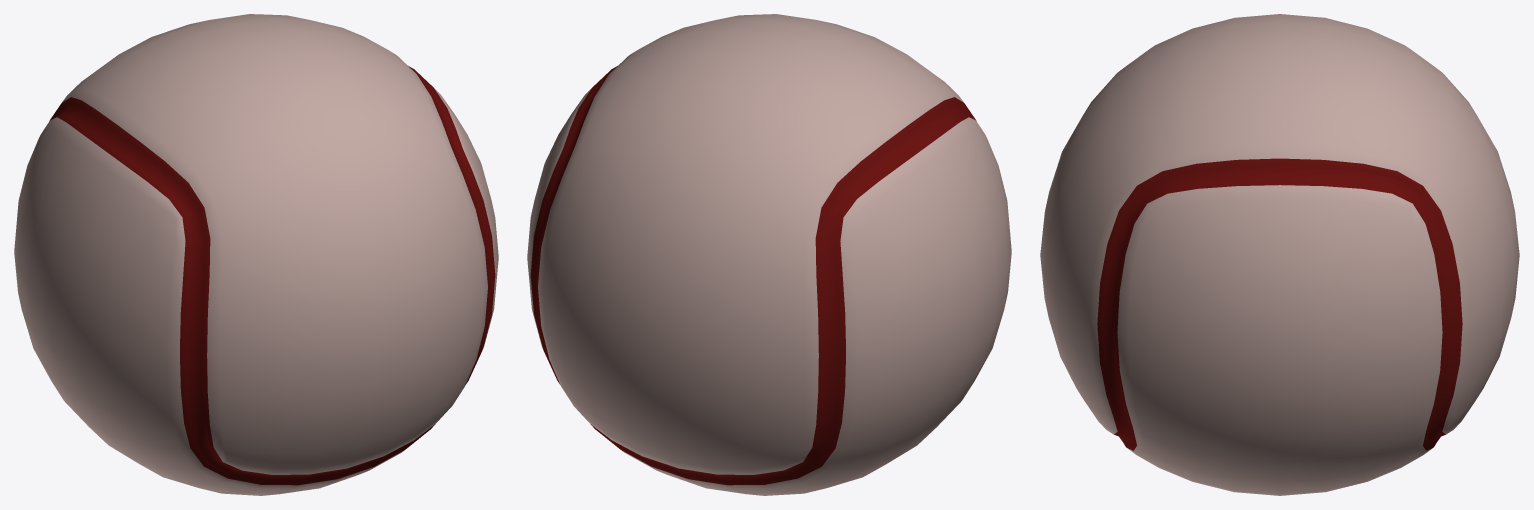
File: ball-classic-9f8916f67268.glb
3 views of the same model, side by side, from view 1: azimuth 30°, elevation 25°; view 2: azimuth 150°, elevation 25°; view 3: azimuth 270°, elevation 25° (orthographic).
Visible parts, largest first — view 1: Baseball; view 2: Baseball; view 3: Baseball.
Part boxes in pixels (left/top/right/bottom): Baseball: left=14, top=14, right=498, bottom=495; Baseball: left=527, top=14, right=1011, bottom=495; Baseball: left=1040, top=14, right=1519, bottom=495.
Bounding box in the file's own units: 1 × 1 × 1.
